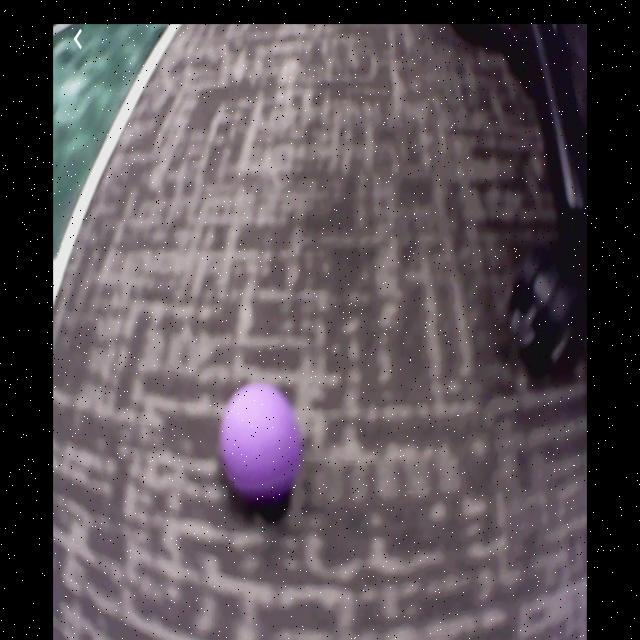ball: (219, 383, 299, 508)
